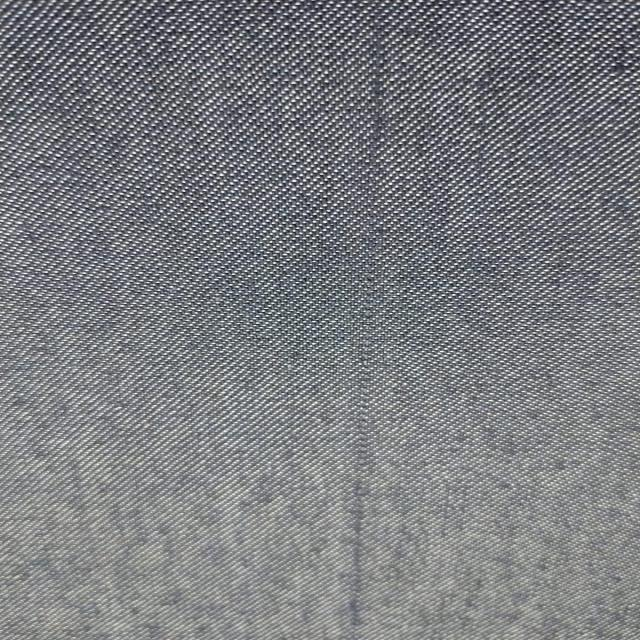Line: (346, 26, 386, 628)
